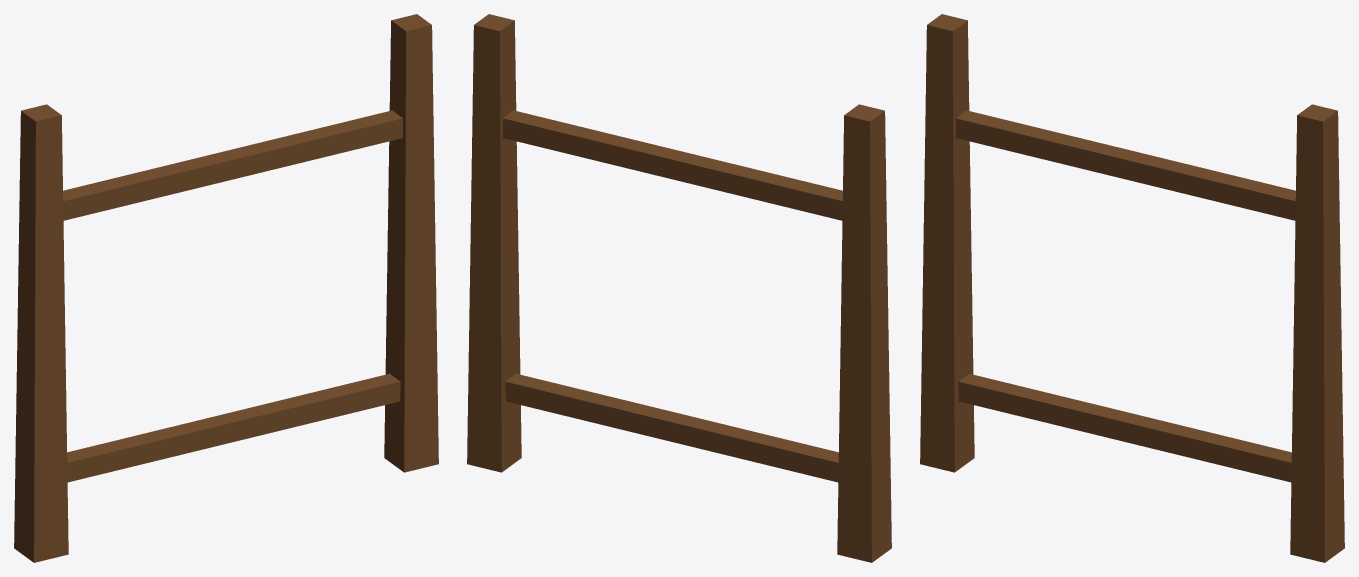
File: kenney_survival-kit__fence__meadow.fbx
The picture shows the model from 3 angles, left to right: view 1: azimuth 30°, elevation 25°; view 2: azimuth 150°, elevation 25°; view 3: azimuth 330°, elevation 25°; orthographic projection.
Parts seen in each view (by area): view 1: kenney_survival-kit__fence__meadow_wood; view 2: kenney_survival-kit__fence__meadow_wood; view 3: kenney_survival-kit__fence__meadow_wood.
Boxes of the visible parts, left/top/right/bottom form: kenney_survival-kit__fence__meadow_wood: left=14, top=14, right=438, bottom=562; kenney_survival-kit__fence__meadow_wood: left=467, top=14, right=891, bottom=562; kenney_survival-kit__fence__meadow_wood: left=920, top=14, right=1344, bottom=562.
Size of the model in its own units: 1.79 by 1.85 by 0.1528.
1 material, 1 textured.
